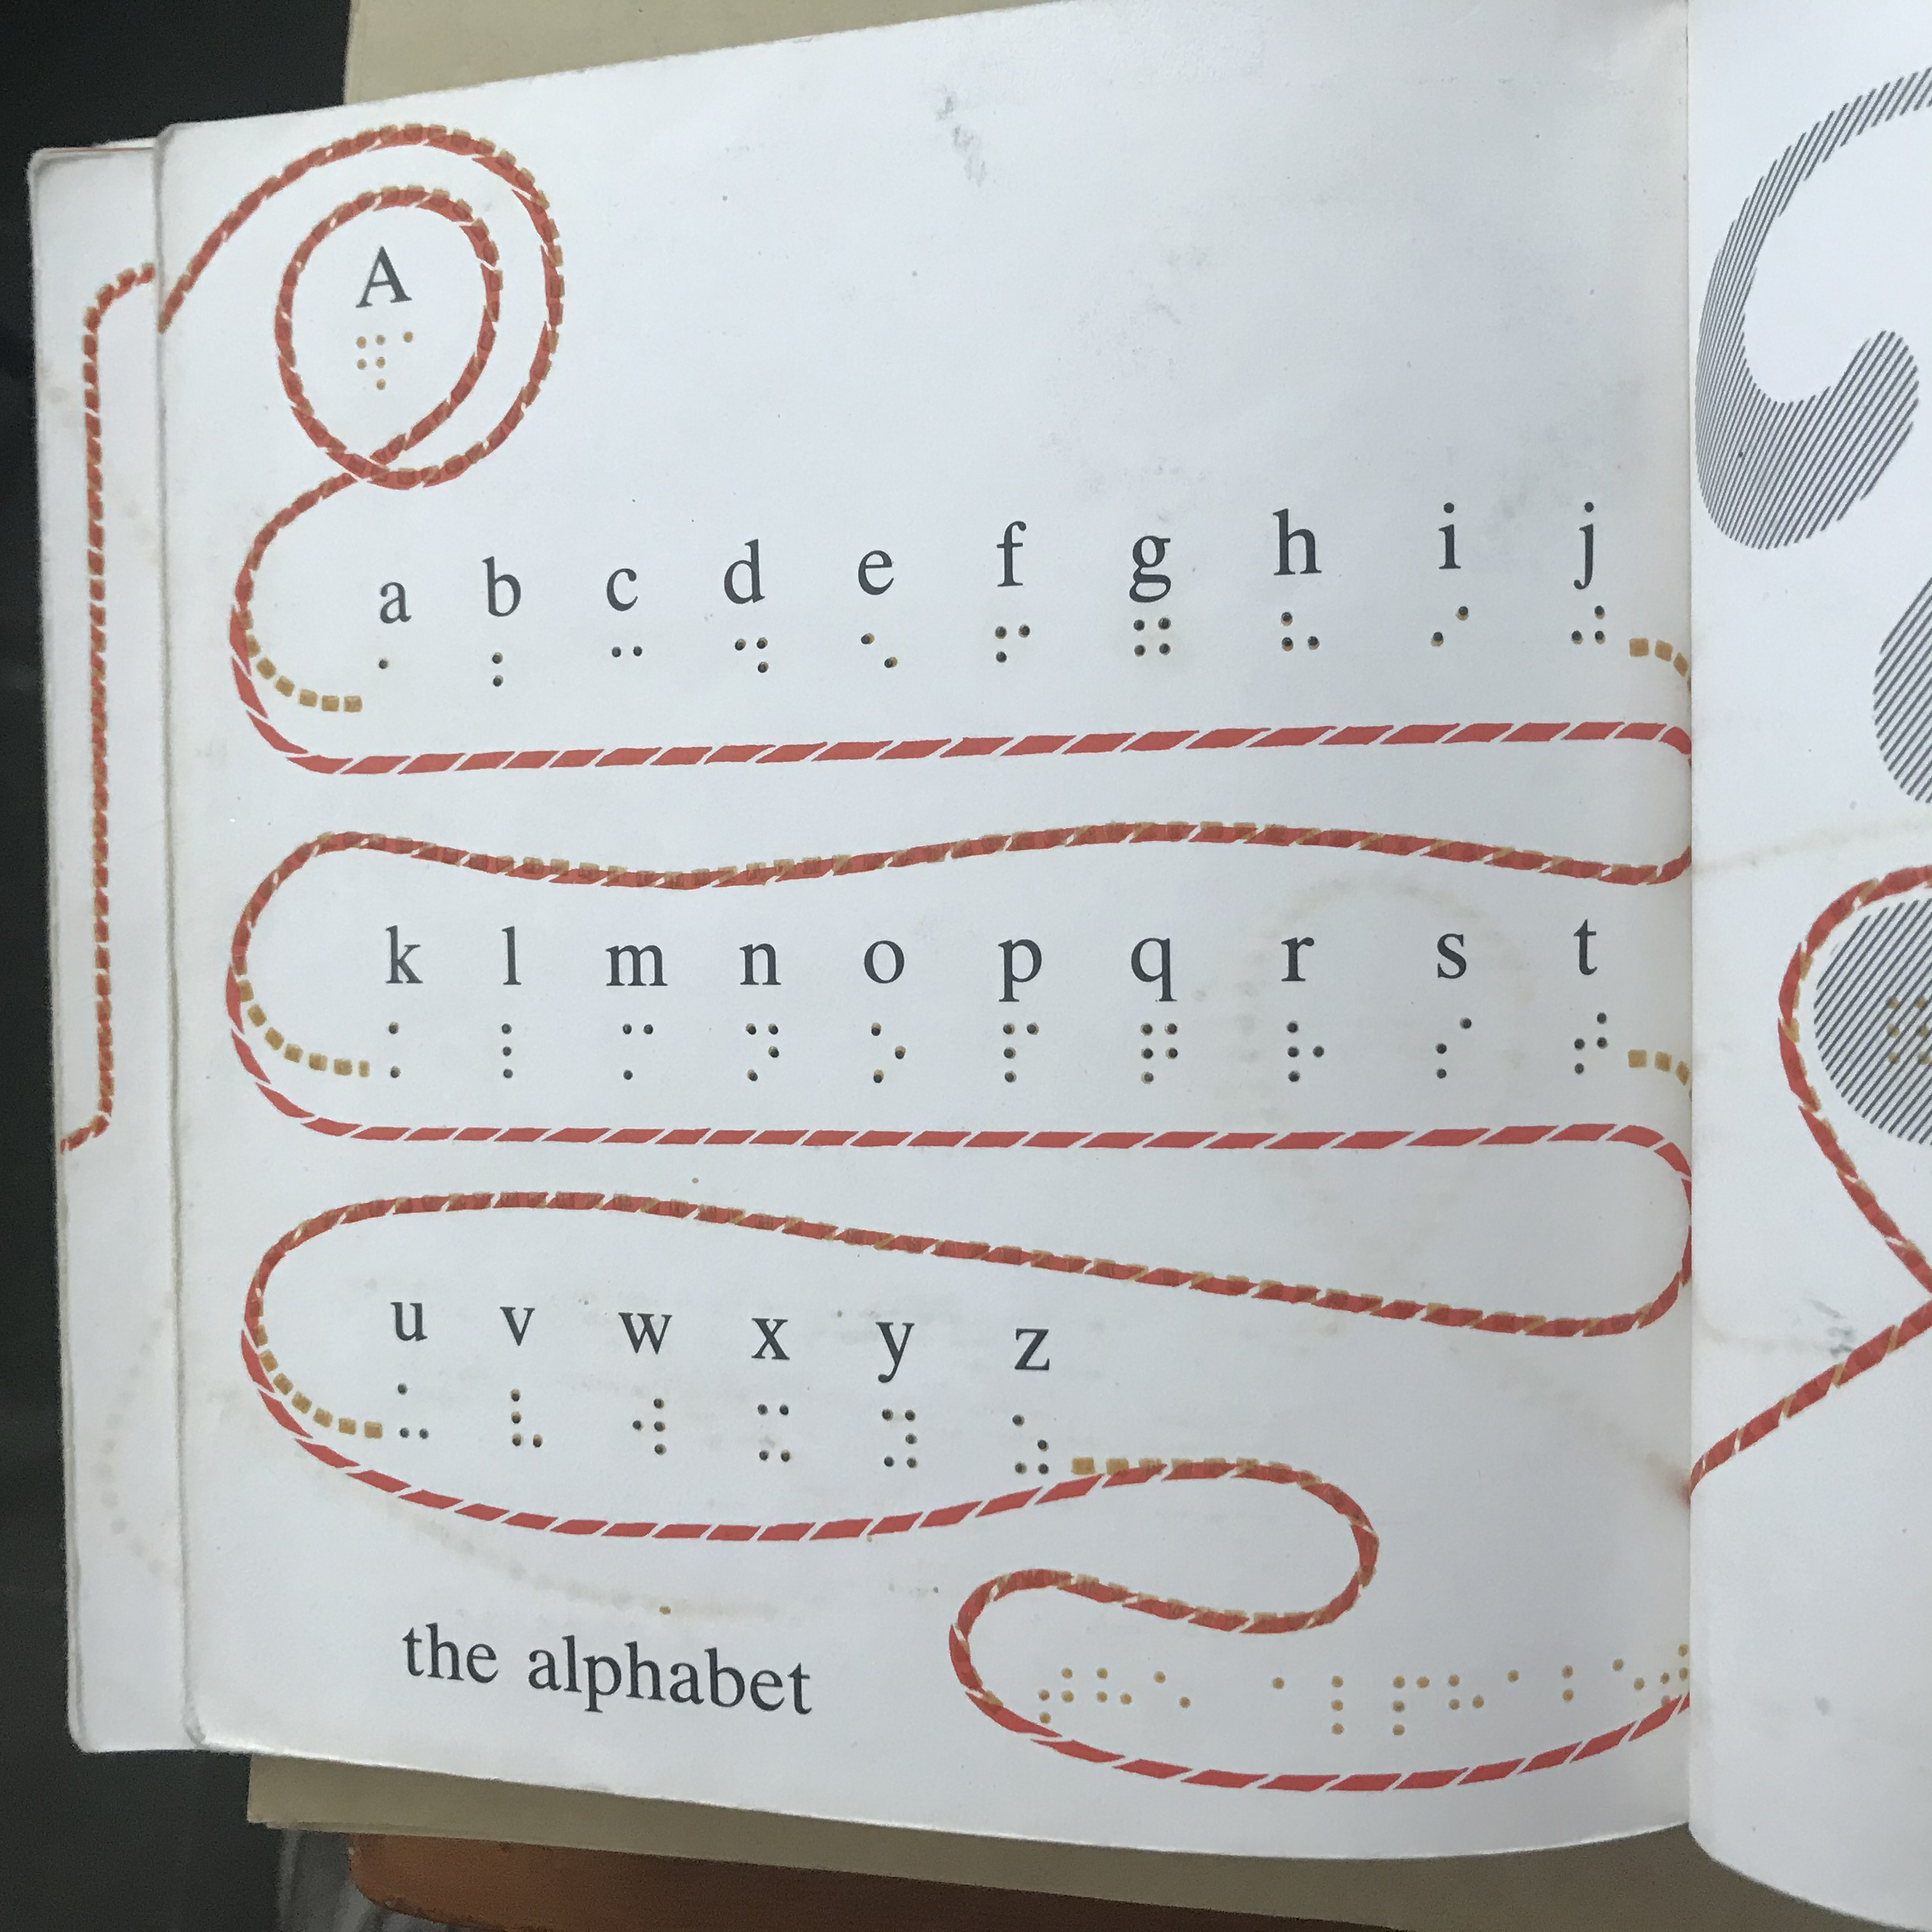Braille: (1872, 977, 1932, 1076), (856, 623, 906, 720), (1557, 1656, 1606, 1752), (1614, 1649, 1656, 1750), (501, 1380, 550, 1465), (488, 646, 536, 732), (731, 633, 780, 717), (1430, 1010, 1479, 1093), (1500, 1661, 1550, 1744), (380, 1014, 432, 1093), (879, 1398, 924, 1488), (609, 639, 655, 725), (1005, 1405, 1056, 1481), (1274, 602, 1322, 683), (743, 1014, 791, 1095), (628, 1385, 676, 1467), (1444, 1665, 1491, 1746), (1139, 1017, 1189, 1095), (1568, 1005, 1617, 1083), (993, 616, 1037, 702), (867, 1014, 913, 1095), (1265, 1665, 1311, 1746), (377, 649, 425, 727), (754, 1396, 798, 1479), (1562, 596, 1608, 676), (1283, 1012, 1329, 1090), (1001, 1019, 1051, 1090), (495, 1017, 543, 1090), (619, 1012, 663, 1090), (1132, 614, 1178, 688), (1431, 596, 1474, 676), (1152, 1661, 1194, 1741), (1663, 1644, 1700, 1734), (1391, 1665, 1437, 1737), (1037, 1654, 1079, 1732), (1332, 1665, 1373, 1744), (1090, 1658, 1134, 1730), (395, 1373, 432, 1442)
